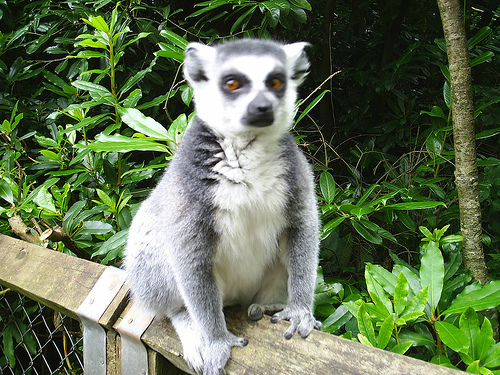cat: (123, 37, 325, 374)
